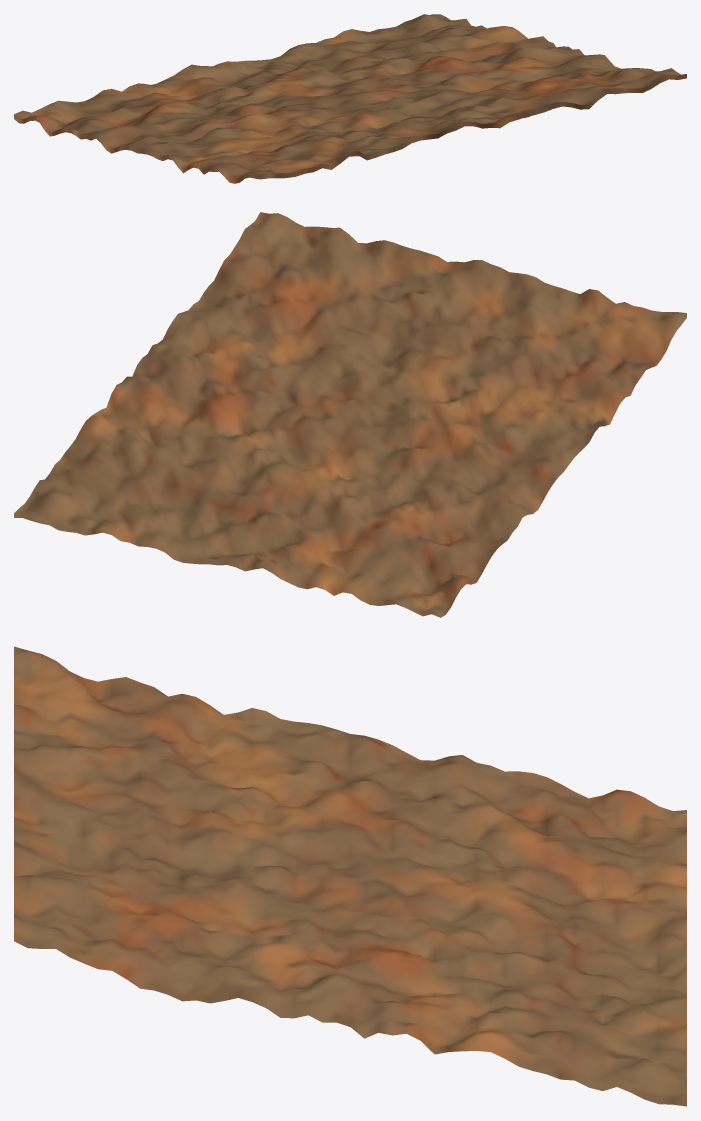
File: terrain-152.glb
3 renders of one model, top to bottom at view 1: azimuth 30°, elevation 25°; view 2: azimuth 150°, elevation 25°; view 3: azimuth 270°, elevation 25°, orthographic. The views are drawn at different scales.
Parts seen in each view (by area): view 1: terrain-152; view 2: terrain-152; view 3: terrain-152.
Part boxes in pixels (x1=…): terrain-152: x1=14, y1=14, x2=686, y2=183; terrain-152: x1=14, y1=212, x2=686, y2=617; terrain-152: x1=14, y1=646, x2=686, y2=1106.
Size of the model in its own units: 384 by 116 by 384.
